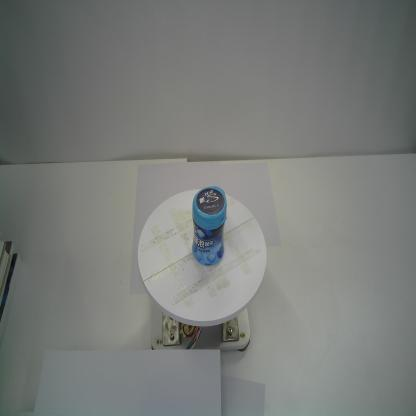Gum: (189, 184, 229, 268)
